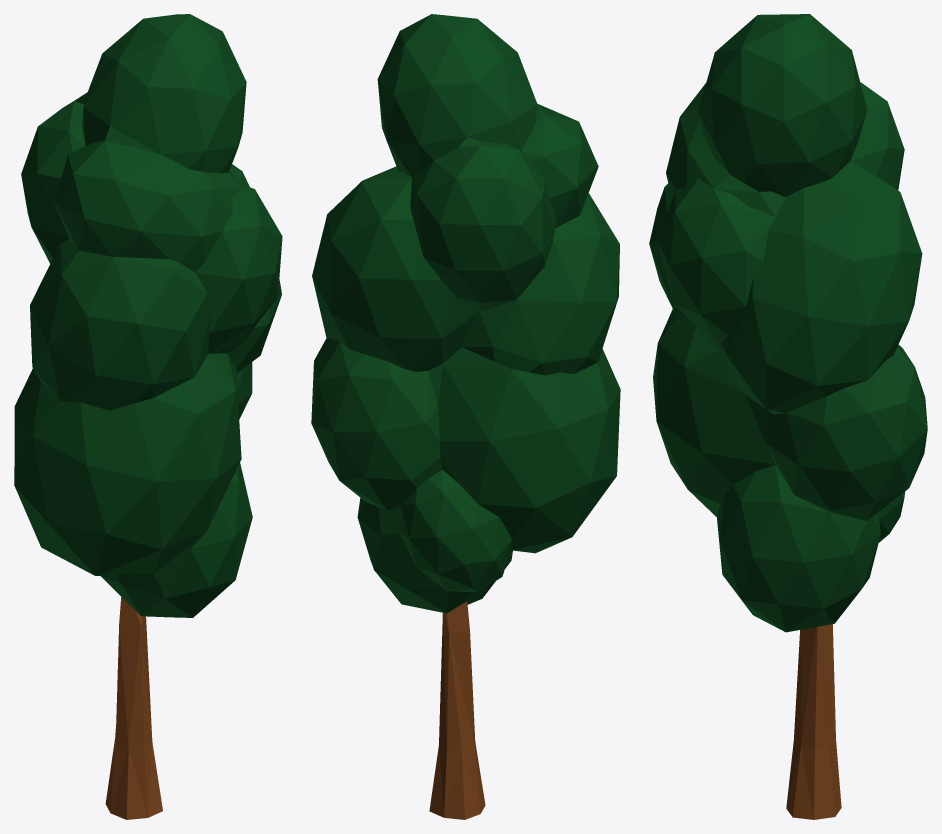
The model's file is tree1.gltf.
3 renders of one model, left to right at view 1: azimuth 30°, elevation 25°; view 2: azimuth 150°, elevation 25°; view 3: azimuth 270°, elevation 25°, orthographic. The views are drawn at different scales.
Parts seen in each view (by area): view 1: _7_tree; view 2: _7_tree; view 3: _7_tree.
Part boxes in pixels (x1,y1,x2,y2): _7_tree: (14,14,282,819); _7_tree: (311,14,620,819); _7_tree: (649,14,927,819).
Size of the model in its own units: 9.39 by 27.38 by 8.6.
